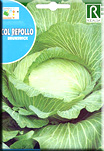cabbage: (0, 1, 103, 149)
